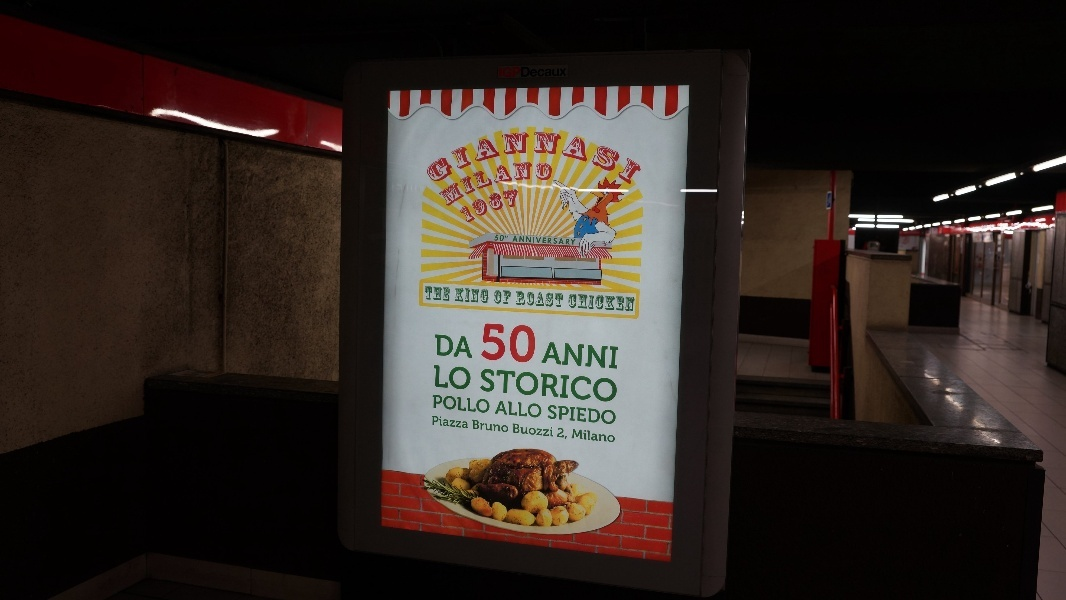text: (449, 149, 464, 208), (465, 149, 480, 208), (481, 149, 496, 208), (497, 149, 512, 208), (513, 149, 528, 208), (529, 149, 544, 208), (433, 128, 448, 185), (449, 128, 464, 185), (465, 128, 480, 185), (481, 128, 496, 185), (497, 128, 512, 185), (513, 128, 528, 185), (529, 128, 544, 185), (545, 128, 560, 185), (561, 128, 576, 185), (577, 128, 592, 185), (593, 128, 608, 185), (609, 128, 624, 185), (625, 128, 640, 185), (434, 149, 448, 208), (545, 149, 556, 208), (465, 183, 480, 224), (481, 183, 496, 224), (497, 183, 512, 224), (497, 323, 512, 364), (513, 323, 528, 364), (497, 368, 512, 403), (513, 368, 528, 403), (529, 368, 544, 403), (545, 368, 560, 403), (561, 368, 576, 403), (577, 368, 592, 403), (593, 368, 608, 403), (641, 128, 650, 185), (484, 323, 496, 364), (482, 368, 496, 403), (561, 342, 576, 370), (577, 342, 592, 370), (593, 342, 608, 370), (425, 128, 432, 185), (449, 365, 464, 391), (449, 334, 464, 359), (434, 365, 448, 391), (529, 323, 537, 364), (435, 334, 448, 359), (561, 405, 576, 426), (577, 405, 592, 426), (593, 405, 608, 426), (433, 395, 448, 415), (449, 395, 464, 415), (465, 395, 480, 415), (457, 183, 464, 224), (577, 293, 592, 312), (593, 293, 608, 312), (609, 293, 624, 312), (550, 342, 560, 370), (609, 342, 619, 370), (609, 368, 617, 403), (513, 401, 528, 419), (529, 291, 544, 308), (545, 291, 560, 308), (465, 334, 475, 359), (465, 288, 480, 304), (529, 401, 542, 419), (549, 405, 560, 426), (433, 286, 448, 301), (497, 290, 512, 305), (500, 401, 512, 419), (433, 415, 448, 429), (449, 415, 464, 429), (481, 419, 496, 433), (513, 423, 528, 437), (529, 423, 544, 437), (577, 429, 592, 443), (593, 429, 608, 443), (625, 293, 636, 312), (513, 183, 518, 224), (516, 291, 528, 308), (481, 395, 491, 415), (465, 365, 472, 391), (513, 66, 528, 78), (529, 66, 544, 78), (545, 66, 560, 78), (609, 405, 617, 426), (497, 419, 509, 433), (499, 66, 512, 78), (529, 236, 544, 246), (545, 236, 560, 246), (561, 236, 576, 246), (455, 288, 464, 304), (569, 293, 576, 312), (515, 236, 528, 246), (481, 288, 489, 304), (545, 423, 554, 437), (424, 286, 432, 301), (473, 419, 480, 433), (609, 429, 616, 443), (561, 428, 569, 440), (497, 235, 509, 242), (561, 66, 567, 78), (465, 415, 470, 429), (561, 291, 564, 308), (573, 429, 576, 443), (558, 428, 560, 440), (449, 286, 450, 301), (495, 290, 496, 305), (513, 290, 514, 305)
